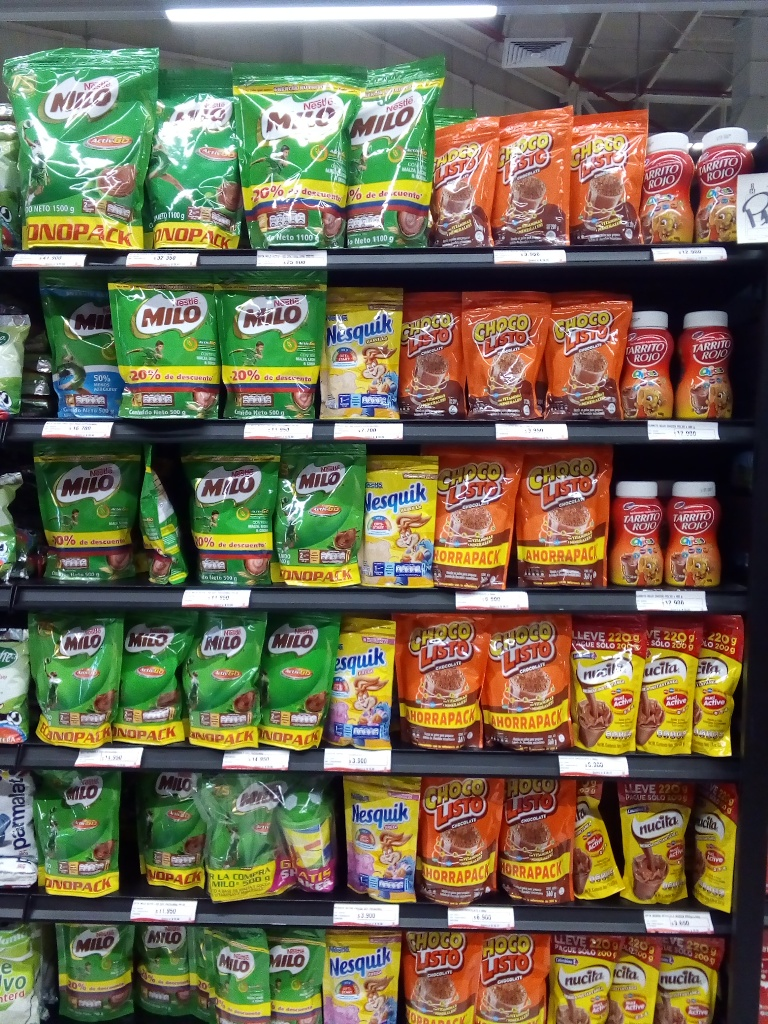COL0170103DYP20000: (434, 116, 500, 248)
COL0170103DYP36000: (424, 439, 523, 592)
COL0170203DYP25000: (54, 920, 137, 1023)
COL0170203DYP50000: (30, 438, 146, 588)
COL0170205DYP50000: (38, 268, 131, 419)
COL0170305DYP20000: (335, 615, 397, 750)
COL0170306DYP20000: (321, 286, 403, 420)
